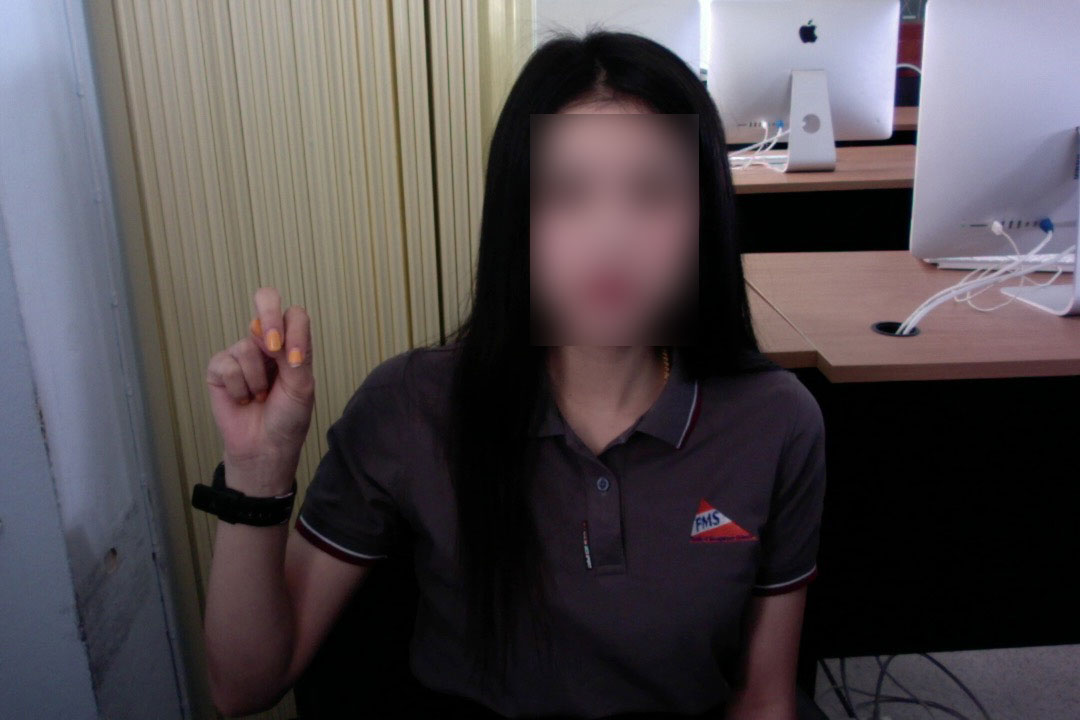nor: (196, 275, 327, 487)
